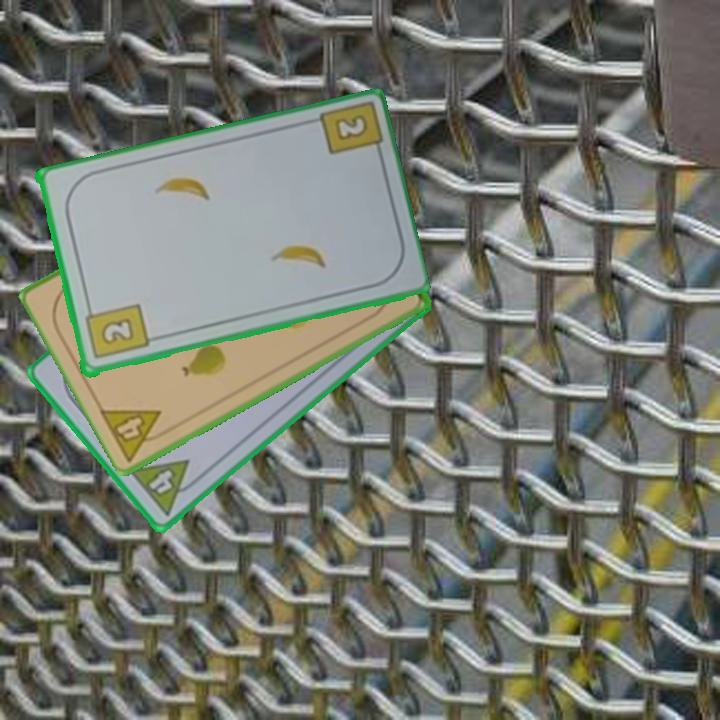2b: (81, 301, 151, 363), (330, 111, 370, 144)
4p: (125, 456, 206, 519), (96, 405, 176, 465)
